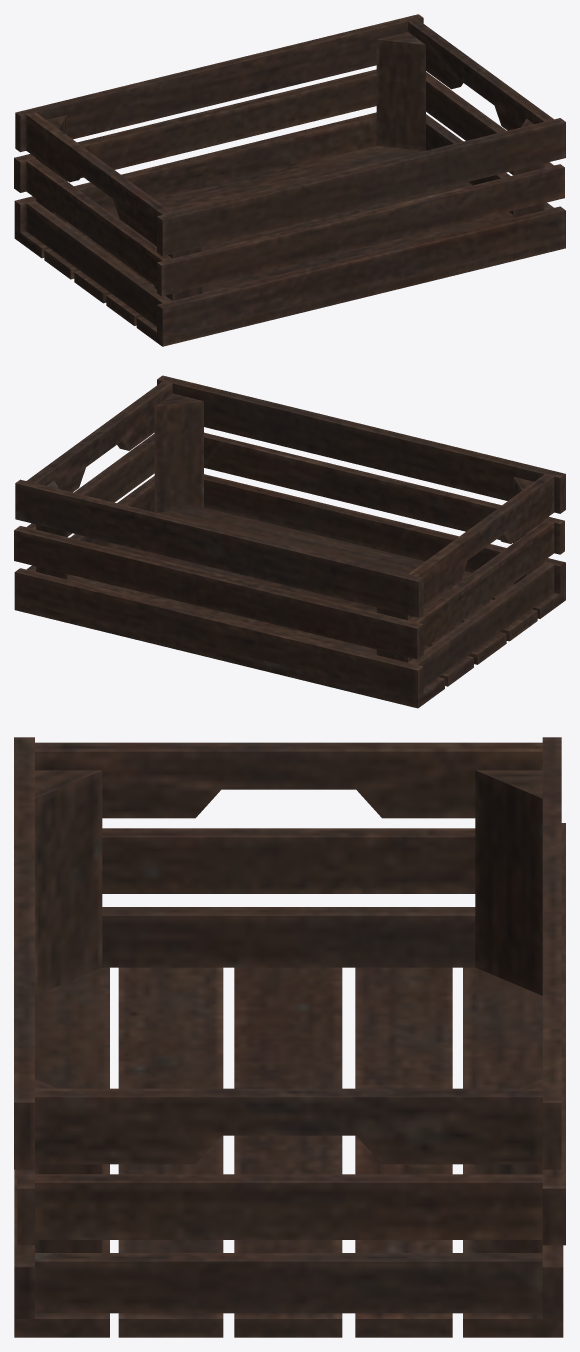
File: supply_crate_1_2_empty.obj
3 views of the same model, one above another, from view 1: azimuth 30°, elevation 25°; view 2: azimuth 150°, elevation 25°; view 3: azimuth 270°, elevation 25° (orthographic). The views are drawn at different scales.
Parts seen in each view (by area): view 1: supply_crate_1_2_empty; view 2: supply_crate_1_2_empty; view 3: supply_crate_1_2_empty.
Part boxes in pixels (x1=…): supply_crate_1_2_empty: x1=14, y1=14, x2=565, y2=346; supply_crate_1_2_empty: x1=14, y1=375, x2=565, y2=708; supply_crate_1_2_empty: x1=14, y1=737, x2=565, y2=1337.
Size of the model in its own units: 0.668 by 0.2 by 0.4262.
